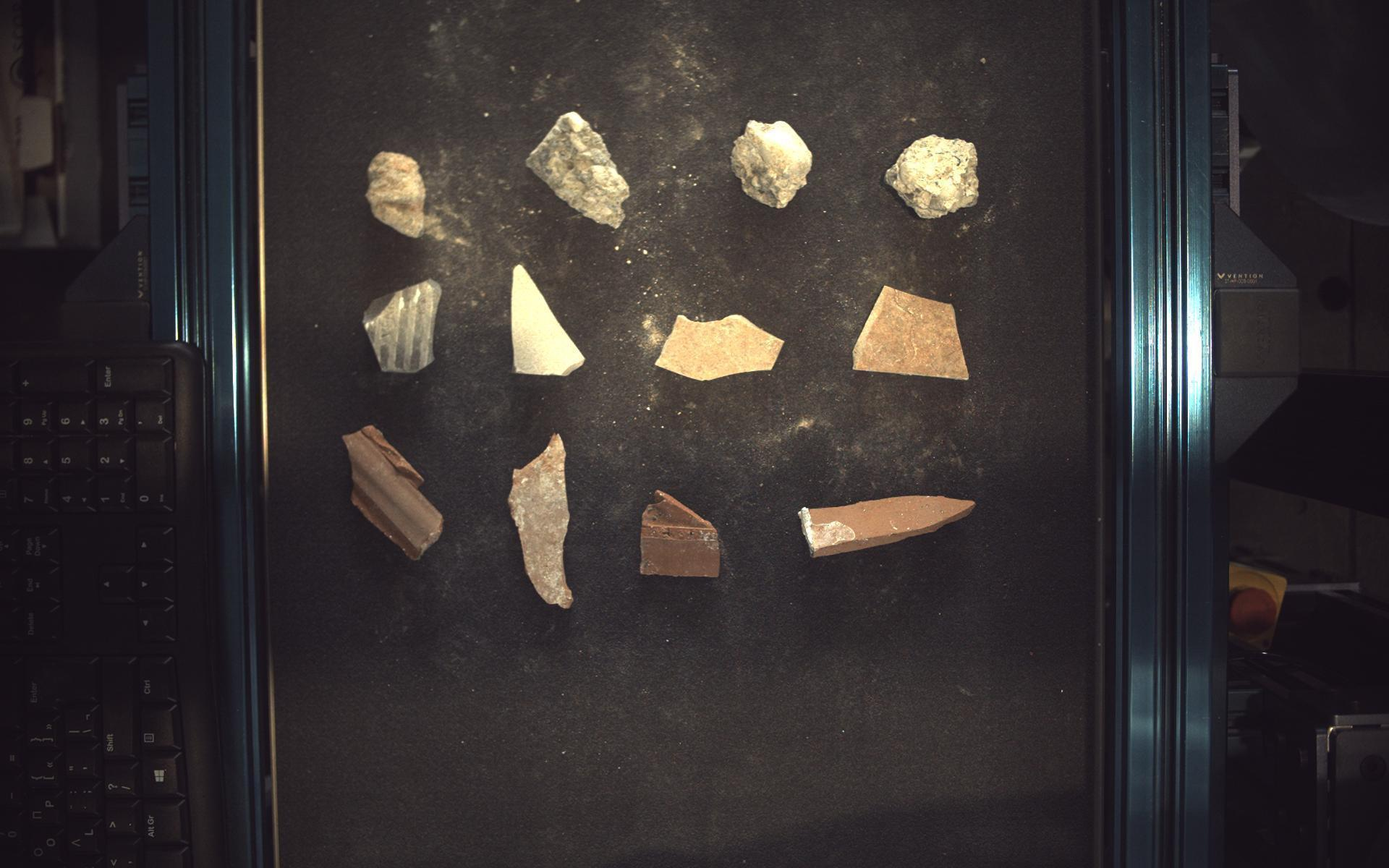brick: (344, 425, 443, 561), (509, 433, 574, 610), (799, 496, 977, 558), (641, 490, 722, 578)
concrete: (527, 111, 629, 228), (886, 134, 981, 218), (732, 119, 813, 208), (366, 150, 445, 238)
tile: (855, 286, 971, 380), (657, 315, 785, 380), (511, 264, 585, 375), (363, 278, 441, 373)
